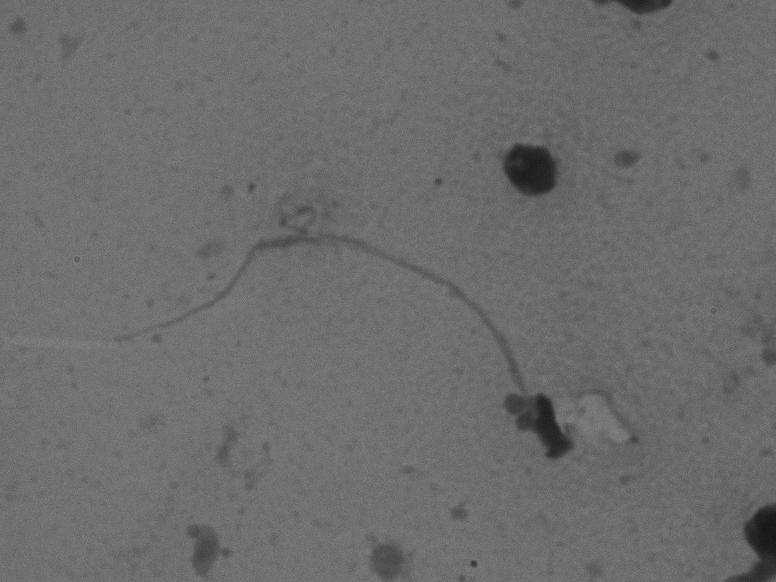Abnormal: (92, 205, 594, 497)
